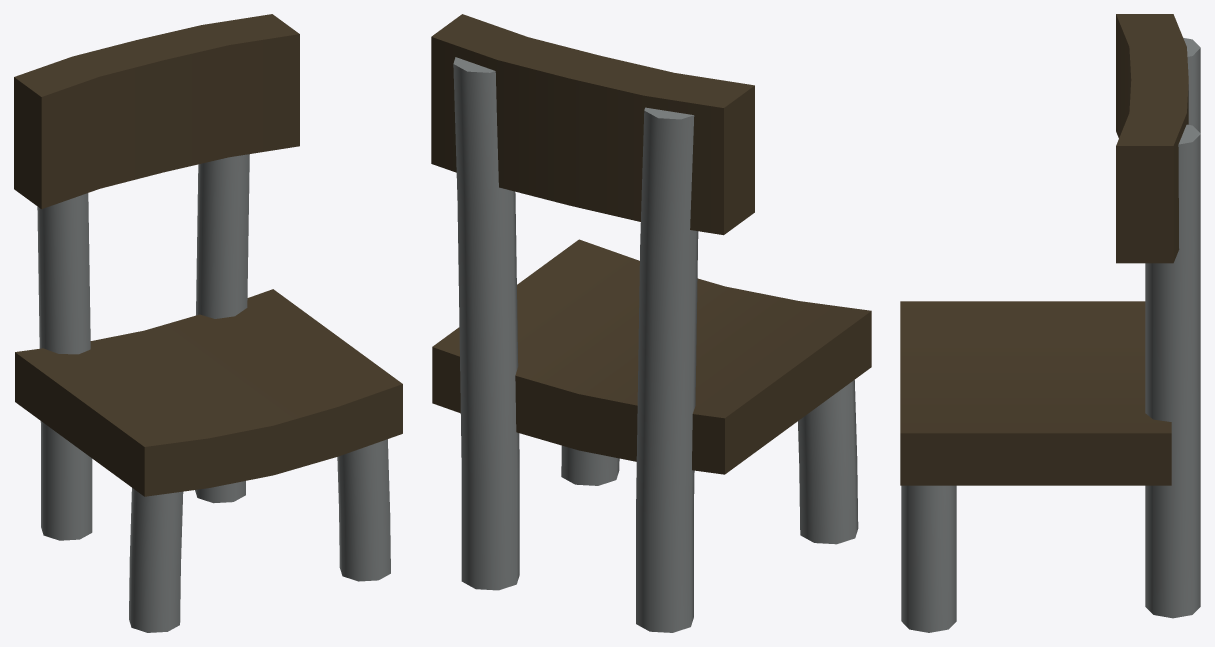
The model's file is Lab_Chair.fbx.
The picture shows the model from 3 angles, left to right: view 1: azimuth 30°, elevation 25°; view 2: azimuth 150°, elevation 25°; view 3: azimuth 270°, elevation 25°; orthographic projection. The views are drawn at different scales.
Visible parts, largest first — view 1: Chair_Seat_geo, Chair_Back_geo, Lab_Chair_Legs_geo; view 2: Lab_Chair_Legs_geo, Chair_Seat_geo, Chair_Back_geo; view 3: Chair_Seat_geo, Lab_Chair_Legs_geo, Chair_Back_geo.
Part boxes in pixels (x1,y1,x2,y2): Chair_Seat_geo: (15, 289, 402, 496); Chair_Back_geo: (14, 14, 299, 209); Lab_Chair_Legs_geo: (37, 154, 390, 632); Lab_Chair_Legs_geo: (453, 57, 858, 632); Chair_Seat_geo: (432, 239, 871, 474); Chair_Back_geo: (431, 14, 754, 235); Chair_Seat_geo: (900, 301, 1171, 485); Lab_Chair_Legs_geo: (901, 38, 1200, 632); Chair_Back_geo: (1116, 14, 1188, 263).
Bounding box in the file's own units: 59.54 × 102 × 57.3.
